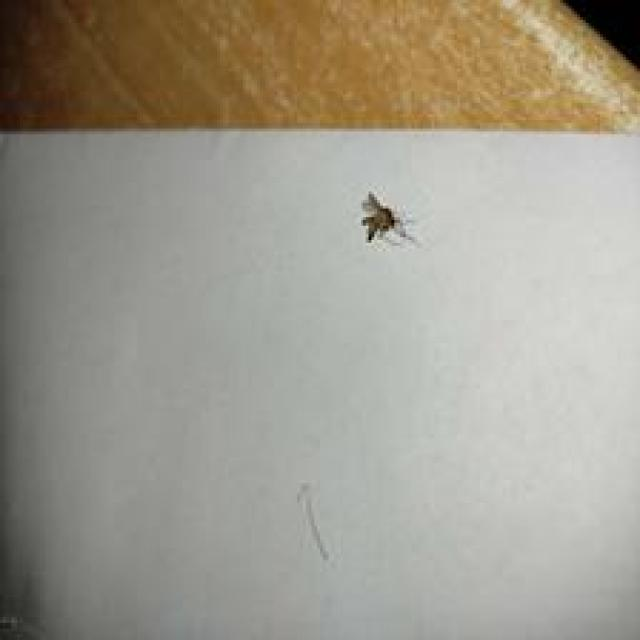Culex: (358, 190, 416, 244)
